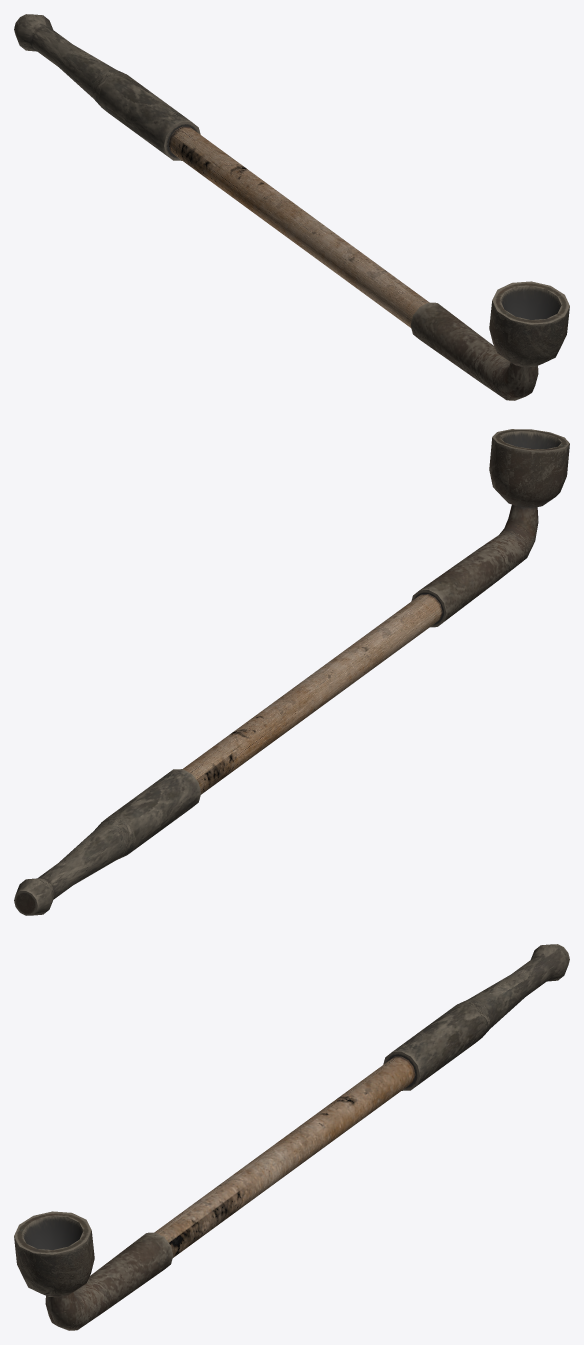
Rendered from acc_03.fbx.
3 views of the same model, one above another, from view 1: azimuth 30°, elevation 25°; view 2: azimuth 150°, elevation 25°; view 3: azimuth 330°, elevation 25° (orthographic).
Visible parts, largest first — view 1: musa_acc_03; view 2: musa_acc_03; view 3: musa_acc_03.
Part boxes in pixels (x1=…): musa_acc_03: x1=14, y1=14, x2=569, y2=400; musa_acc_03: x1=14, y1=429, x2=569, y2=915; musa_acc_03: x1=14, y1=944, x2=569, y2=1330.
Bounding box in the file's own units: 2.6 × 4.37 × 34.87.
Materials: 1 (1 with a texture image).
